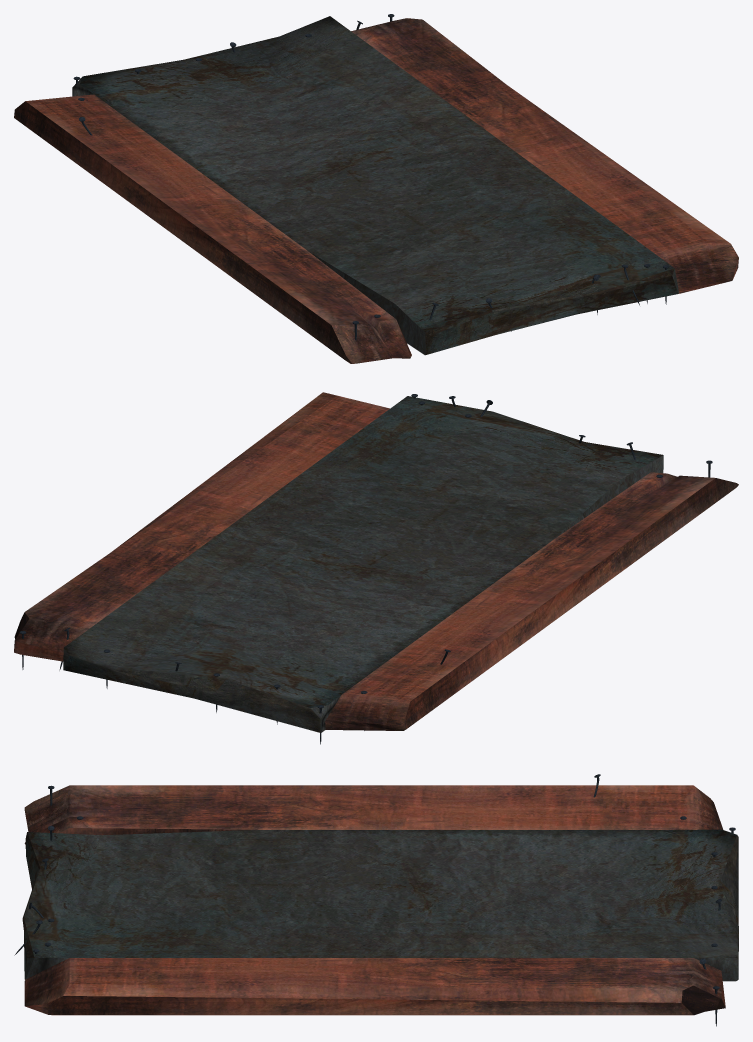
File: table_waitroom_damaged03.dae
The picture shows the model from 3 angles, top to bottom: view 1: azimuth 30°, elevation 25°; view 2: azimuth 150°, elevation 25°; view 3: azimuth 270°, elevation 25°; orthographic projection. The views are drawn at different scales.
Parts seen in each view (by area): view 1: polySurface283; view 2: polySurface283; view 3: polySurface283.
Part boxes in pixels (<box>): polySurface283: <box>14,14,738,363</box>; polySurface283: <box>14,392,738,744</box>; polySurface283: <box>14,774,738,1026</box>.
Bounding box in the file's own units: 135 × 22.25 × 208.
